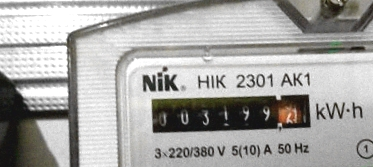0: (154, 107, 169, 128), (177, 105, 190, 126)
1: (219, 101, 230, 121)
3: (198, 107, 210, 127)
6: (282, 110, 294, 127)
9: (259, 104, 272, 123), (239, 102, 250, 121)
screen: (141, 72, 321, 156)
